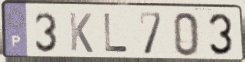0: (173, 11, 201, 58)
3: (207, 11, 236, 58), (33, 11, 59, 54)
7: (139, 11, 163, 57)
K: (67, 11, 95, 55)
L: (103, 12, 130, 55)
